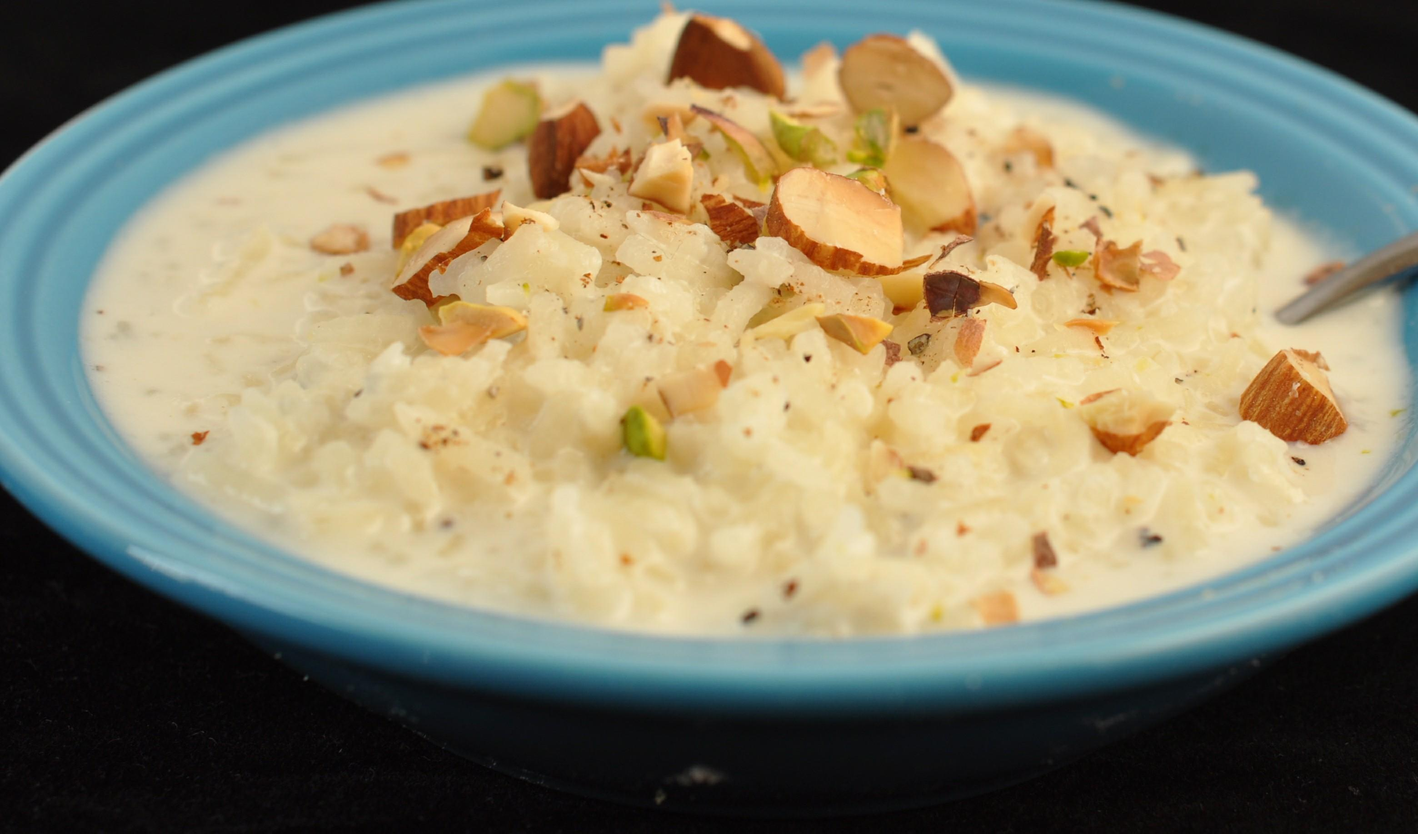Kheer: (78, 0, 1408, 643)
